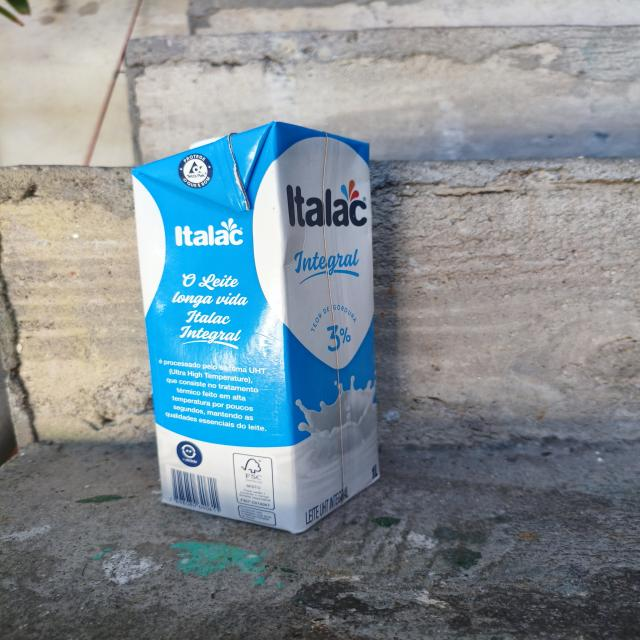Caixa de Leite: (114, 113, 386, 536)
